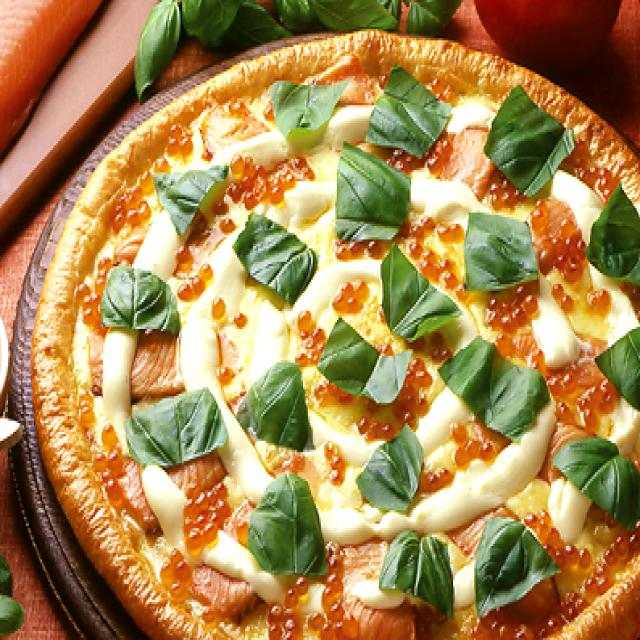汉堡快餐: (27, 27, 640, 640)
